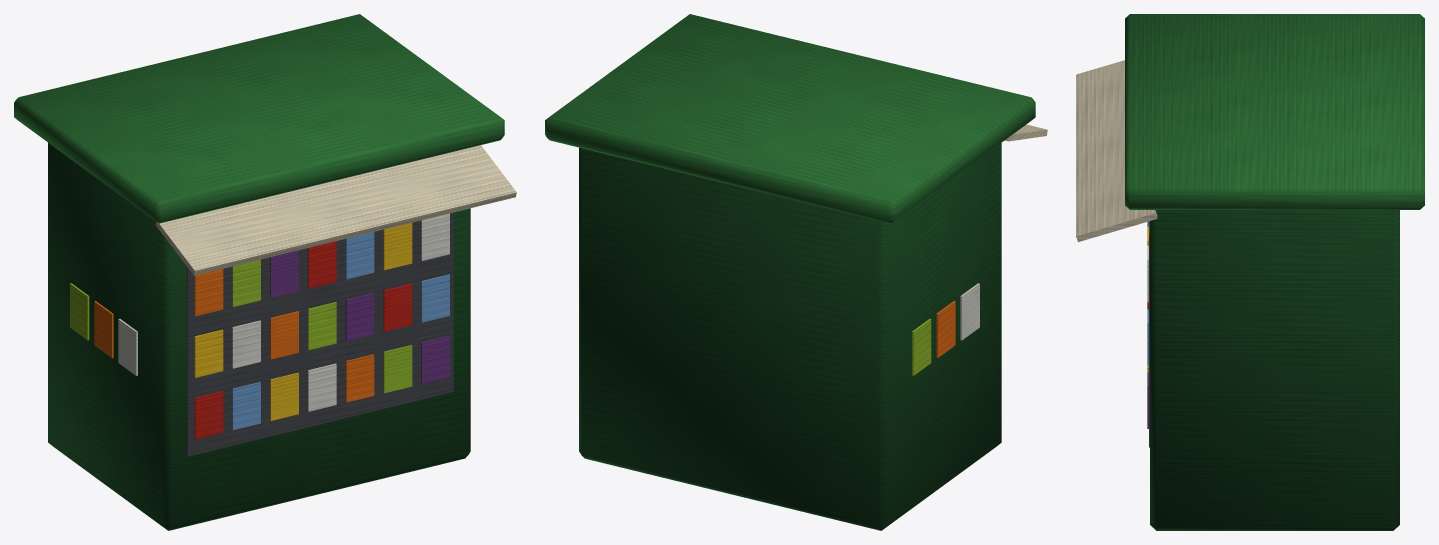
File: banca_jornal.glb
3 views of the same model, side by side, from view 1: azimuth 30°, elevation 25°; view 2: azimuth 150°, elevation 25°; view 3: azimuth 270°, elevation 25° (orthographic). The views are drawn at different scales.
Parts seen in each view (by area): view 1: Inteiro; view 2: Inteiro; view 3: Inteiro.
Part boxes in pixels (box(x1,y1,x2,y2)): Inteiro: box(14, 14, 516, 530); Inteiro: box(545, 14, 1047, 530); Inteiro: box(1076, 14, 1424, 530).
Bounding box in the file's own units: 2.5 × 2.36 × 2.09.
Materials: 1 (1 with a texture image).
